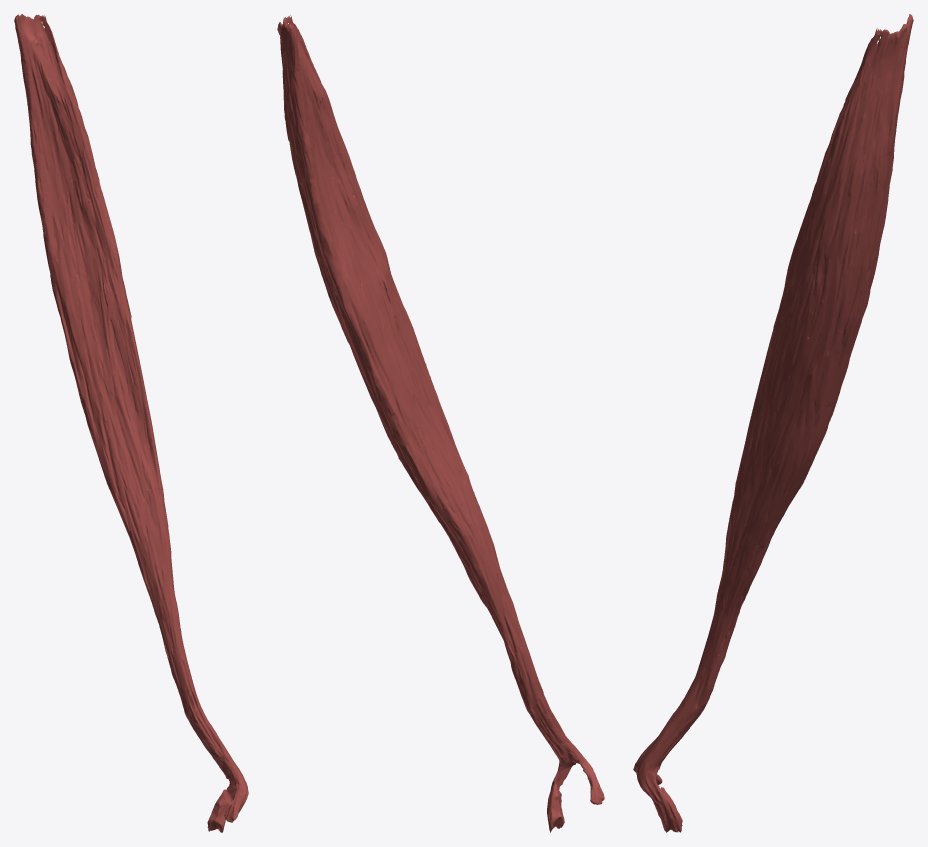
The model's file is FMA38617.glb.
The picture shows the model from 3 angles, left to right: view 1: azimuth 90°, elevation 25°; view 2: azimuth 150°, elevation 25°; view 3: azimuth 270°, elevation 25°; orthographic projection. The views are drawn at different scales.
Visible parts, largest first — view 1: FMA38617; view 2: FMA38617; view 3: FMA38617.
Boxes of the visible parts, x1,y1,x2,y2 form: FMA38617: (14,14,248,832); FMA38617: (277,15,604,832); FMA38617: (633,14,913,832).
Bounding box in the file's own units: 0.0687 × 0.2671 × 0.0756.
